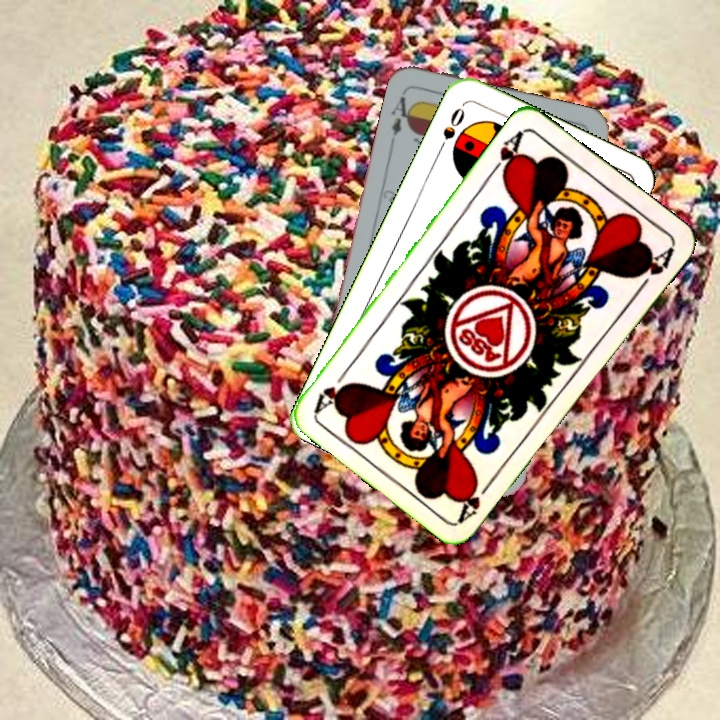EA: (386, 87, 418, 146)
HA: (454, 472, 498, 524), (485, 126, 526, 181)
SO: (434, 103, 468, 155)
